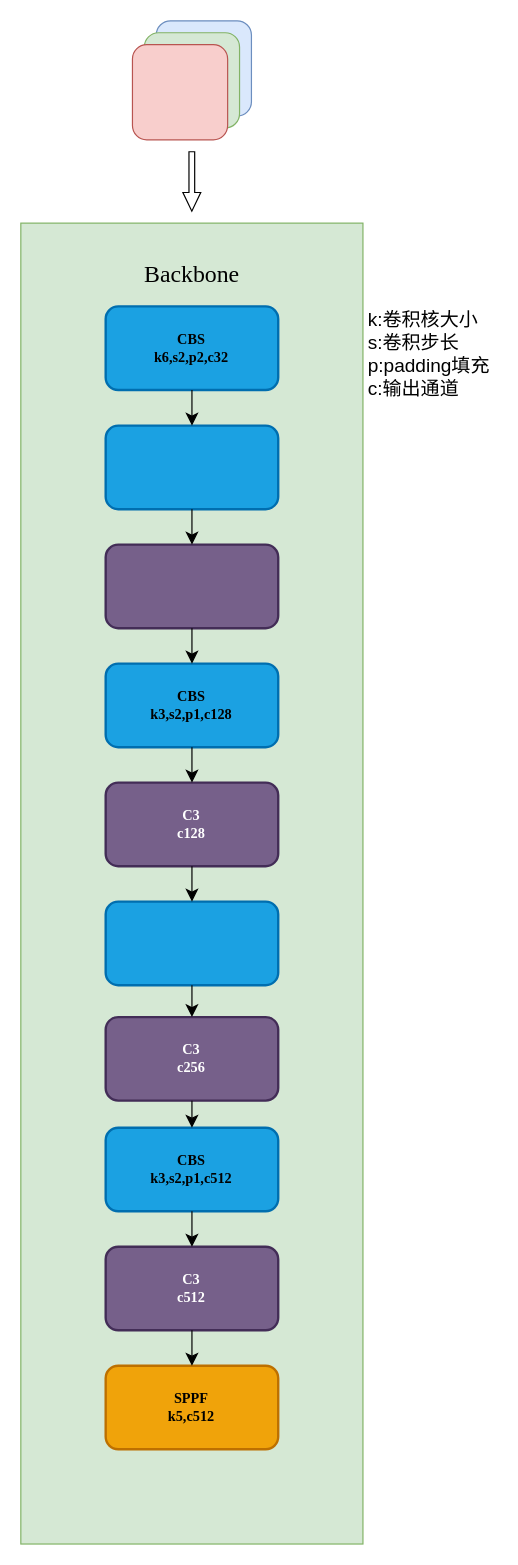
Image size: 518x1565. Some labels were removed from this diagram. The shapes that lost their labels are listed below. From the top down, each one's centre as x and y in pixels, then its label:
At pixel 191 467: "CBS k6,s2,p2,c64".
At pixel 191 586: "C3 c64".
At pixel 191 943: "CBS k3,s2,p1,c256".
